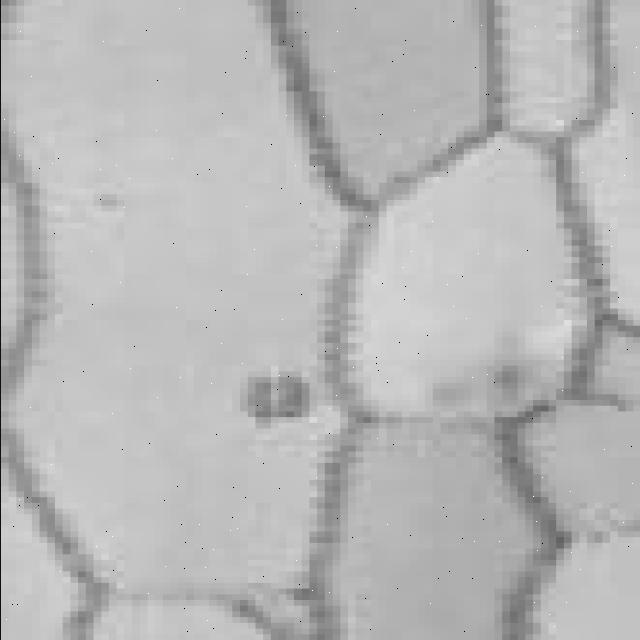good_void: (234, 369, 313, 428)
